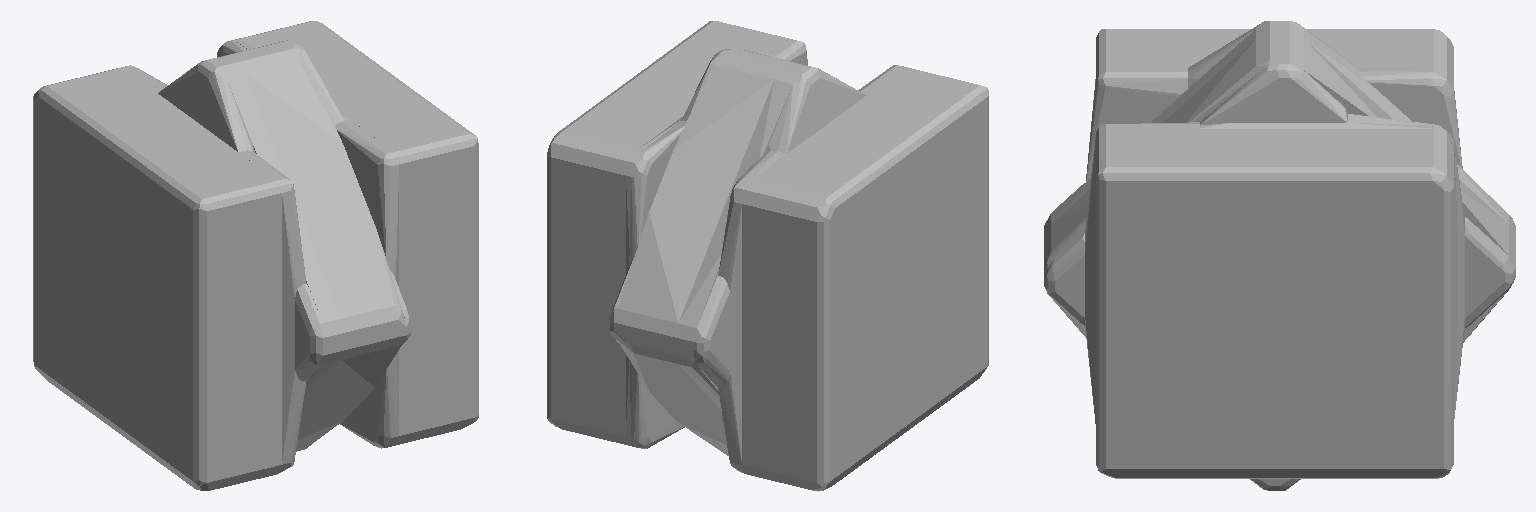
robot.urdf — root:
<robot name="root">
  <link name="link_coacd_convex_piece_0">
    <inertial>
      <origin xyz="0 0 0" rpy="0 0 0"/>
      <mass value="3.77E-01"/>
      <inertia ixx="8.35E-02" ixy="2.64E-03" ixz="-3.97E-04" iyy="1.05E-01" iyz="6.61E-05" izz="1.08E-01"/>
    </inertial>
    <visual>
      <origin xyz="0 0 0" rpy="0 0 0"/>
      <geometry>
        <mesh filename="coacd_convex_piece_0.obj" scale="1.0000E+00 1.0000E+00 1.0000E+00"/>
      </geometry>
      <material name="">
        <color rgba="7.50E-01 7.50E-01 7.50E-01 1"/>
      </material>
    </visual>
    <collision>
      <origin xyz="0 0 0" rpy="0 0 0"/>
      <geometry>
        <mesh filename="coacd_convex_piece_0.obj" scale="1.0000E+00 1.0000E+00 1.0000E+00"/>
      </geometry>
    </collision>
  </link>
  <link name="link_coacd_convex_piece_1">
    <inertial>
      <origin xyz="0 0 0" rpy="0 0 0"/>
      <mass value="3.78E-01"/>
      <inertia ixx="8.36E-02" ixy="-2.61E-03" ixz="3.74E-04" iyy="1.05E-01" iyz="6.37E-05" izz="1.08E-01"/>
    </inertial>
    <visual>
      <origin xyz="0 0 0" rpy="0 0 0"/>
      <geometry>
        <mesh filename="coacd_convex_piece_1.obj" scale="1.0000E+00 1.0000E+00 1.0000E+00"/>
      </geometry>
      <material name="">
        <color rgba="7.50E-01 7.50E-01 7.50E-01 1"/>
      </material>
    </visual>
    <collision>
      <origin xyz="0 0 0" rpy="0 0 0"/>
      <geometry>
        <mesh filename="coacd_convex_piece_1.obj" scale="1.0000E+00 1.0000E+00 1.0000E+00"/>
      </geometry>
    </collision>
  </link>
  <joint name="link_coacd_convex_piece_1_joint" type="fixed">
    <origin xyz="0 0 0" rpy="0 0 0"/>
    <parent link="link_coacd_convex_piece_0"/>
    <child link="link_coacd_convex_piece_1"/>
  </joint>
  <link name="link_coacd_convex_piece_2">
    <inertial>
      <origin xyz="0 0 0" rpy="0 0 0"/>
      <mass value="2.91E-01"/>
      <inertia ixx="6.71E-02" ixy="2.10E-06" ixz="-4.02E-05" iyy="3.55E-02" iyz="-4.53E-04" izz="3.56E-02"/>
    </inertial>
    <visual>
      <origin xyz="0 0 0" rpy="0 0 0"/>
      <geometry>
        <mesh filename="coacd_convex_piece_2.obj" scale="1.0000E+00 1.0000E+00 1.0000E+00"/>
      </geometry>
      <material name="">
        <color rgba="7.50E-01 7.50E-01 7.50E-01 1"/>
      </material>
    </visual>
    <collision>
      <origin xyz="0 0 0" rpy="0 0 0"/>
      <geometry>
        <mesh filename="coacd_convex_piece_2.obj" scale="1.0000E+00 1.0000E+00 1.0000E+00"/>
      </geometry>
    </collision>
  </link>
  <joint name="link_coacd_convex_piece_2_joint" type="fixed">
    <origin xyz="0 0 0" rpy="0 0 0"/>
    <parent link="link_coacd_convex_piece_1"/>
    <child link="link_coacd_convex_piece_2"/>
  </joint>
  <link name="link_coacd_convex_piece_3">
    <inertial>
      <origin xyz="0 0 0" rpy="0 0 0"/>
      <mass value="8.64E-02"/>
      <inertia ixx="1.95E-02" ixy="8.05E-06" ixz="6.04E-06" iyy="1.10E-02" iyz="-6.00E-05" izz="1.10E-02"/>
    </inertial>
    <visual>
      <origin xyz="0 0 0" rpy="0 0 0"/>
      <geometry>
        <mesh filename="coacd_convex_piece_3.obj" scale="1.0000E+00 1.0000E+00 1.0000E+00"/>
      </geometry>
      <material name="">
        <color rgba="7.50E-01 7.50E-01 7.50E-01 1"/>
      </material>
    </visual>
    <collision>
      <origin xyz="0 0 0" rpy="0 0 0"/>
      <geometry>
        <mesh filename="coacd_convex_piece_3.obj" scale="1.0000E+00 1.0000E+00 1.0000E+00"/>
      </geometry>
    </collision>
  </link>
  <joint name="link_coacd_convex_piece_3_joint" type="fixed">
    <origin xyz="0 0 0" rpy="0 0 0"/>
    <parent link="link_coacd_convex_piece_2"/>
    <child link="link_coacd_convex_piece_3"/>
  </joint>
  <link name="link_coacd_convex_piece_4">
    <inertial>
      <origin xyz="0 0 0" rpy="0 0 0"/>
      <mass value="1.08E-03"/>
      <inertia ixx="4.90E-04" ixy="-1.31E-04" ixz="-3.36E-06" iyy="4.33E-05" iyz="-1.23E-05" izz="5.19E-04"/>
    </inertial>
    <visual>
      <origin xyz="0 0 0" rpy="0 0 0"/>
      <geometry>
        <mesh filename="coacd_convex_piece_4.obj" scale="1.0000E+00 1.0000E+00 1.0000E+00"/>
      </geometry>
      <material name="">
        <color rgba="7.50E-01 7.50E-01 7.50E-01 1"/>
      </material>
    </visual>
    <collision>
      <origin xyz="0 0 0" rpy="0 0 0"/>
      <geometry>
        <mesh filename="coacd_convex_piece_4.obj" scale="1.0000E+00 1.0000E+00 1.0000E+00"/>
      </geometry>
    </collision>
  </link>
  <joint name="link_coacd_convex_piece_4_joint" type="fixed">
    <origin xyz="0 0 0" rpy="0 0 0"/>
    <parent link="link_coacd_convex_piece_3"/>
    <child link="link_coacd_convex_piece_4"/>
  </joint>
  <link name="link_coacd_convex_piece_5">
    <inertial>
      <origin xyz="0 0 0" rpy="0 0 0"/>
      <mass value="2.39E-02"/>
      <inertia ixx="7.35E-03" ixy="2.11E-03" ixz="-9.55E-06" iyy="3.43E-03" iyz="2.41E-05" izz="5.86E-03"/>
    </inertial>
    <visual>
      <origin xyz="0 0 0" rpy="0 0 0"/>
      <geometry>
        <mesh filename="coacd_convex_piece_5.obj" scale="1.0000E+00 1.0000E+00 1.0000E+00"/>
      </geometry>
      <material name="">
        <color rgba="7.50E-01 7.50E-01 7.50E-01 1"/>
      </material>
    </visual>
    <collision>
      <origin xyz="0 0 0" rpy="0 0 0"/>
      <geometry>
        <mesh filename="coacd_convex_piece_5.obj" scale="1.0000E+00 1.0000E+00 1.0000E+00"/>
      </geometry>
    </collision>
  </link>
  <joint name="link_coacd_convex_piece_5_joint" type="fixed">
    <origin xyz="0 0 0" rpy="0 0 0"/>
    <parent link="link_coacd_convex_piece_4"/>
    <child link="link_coacd_convex_piece_5"/>
  </joint>
  <link name="link_coacd_convex_piece_6">
    <inertial>
      <origin xyz="0 0 0" rpy="0 0 0"/>
      <mass value="7.59E-04"/>
      <inertia ixx="3.64E-04" ixy="9.49E-05" ixz="1.33E-06" iyy="2.88E-05" iyz="-5.20E-06" izz="3.85E-04"/>
    </inertial>
    <visual>
      <origin xyz="0 0 0" rpy="0 0 0"/>
      <geometry>
        <mesh filename="coacd_convex_piece_6.obj" scale="1.0000E+00 1.0000E+00 1.0000E+00"/>
      </geometry>
      <material name="">
        <color rgba="7.50E-01 7.50E-01 7.50E-01 1"/>
      </material>
    </visual>
    <collision>
      <origin xyz="0 0 0" rpy="0 0 0"/>
      <geometry>
        <mesh filename="coacd_convex_piece_6.obj" scale="1.0000E+00 1.0000E+00 1.0000E+00"/>
      </geometry>
    </collision>
  </link>
  <joint name="link_coacd_convex_piece_6_joint" type="fixed">
    <origin xyz="0 0 0" rpy="0 0 0"/>
    <parent link="link_coacd_convex_piece_5"/>
    <child link="link_coacd_convex_piece_6"/>
  </joint>
  <link name="link_coacd_convex_piece_7">
    <inertial>
      <origin xyz="0 0 0" rpy="0 0 0"/>
      <mass value="5.01E-02"/>
      <inertia ixx="8.74E-03" ixy="-1.91E-04" ixz="2.24E-05" iyy="9.42E-03" iyz="-1.01E-05" izz="3.16E-03"/>
    </inertial>
    <visual>
      <origin xyz="0 0 0" rpy="0 0 0"/>
      <geometry>
        <mesh filename="coacd_convex_piece_7.obj" scale="1.0000E+00 1.0000E+00 1.0000E+00"/>
      </geometry>
      <material name="">
        <color rgba="7.50E-01 7.50E-01 7.50E-01 1"/>
      </material>
    </visual>
    <collision>
      <origin xyz="0 0 0" rpy="0 0 0"/>
      <geometry>
        <mesh filename="coacd_convex_piece_7.obj" scale="1.0000E+00 1.0000E+00 1.0000E+00"/>
      </geometry>
    </collision>
  </link>
  <joint name="link_coacd_convex_piece_7_joint" type="fixed">
    <origin xyz="0 0 0" rpy="0 0 0"/>
    <parent link="link_coacd_convex_piece_6"/>
    <child link="link_coacd_convex_piece_7"/>
  </joint>
  <link name="link_coacd_convex_piece_8">
    <inertial>
      <origin xyz="0 0 0" rpy="0 0 0"/>
      <mass value="2.34E-02"/>
      <inertia ixx="7.44E-03" ixy="-2.11E-03" ixz="3.24E-05" iyy="3.20E-03" iyz="8.08E-05" izz="6.07E-03"/>
    </inertial>
    <visual>
      <origin xyz="0 0 0" rpy="0 0 0"/>
      <geometry>
        <mesh filename="coacd_convex_piece_8.obj" scale="1.0000E+00 1.0000E+00 1.0000E+00"/>
      </geometry>
      <material name="">
        <color rgba="7.50E-01 7.50E-01 7.50E-01 1"/>
      </material>
    </visual>
    <collision>
      <origin xyz="0 0 0" rpy="0 0 0"/>
      <geometry>
        <mesh filename="coacd_convex_piece_8.obj" scale="1.0000E+00 1.0000E+00 1.0000E+00"/>
      </geometry>
    </collision>
  </link>
  <joint name="link_coacd_convex_piece_8_joint" type="fixed">
    <origin xyz="0 0 0" rpy="0 0 0"/>
    <parent link="link_coacd_convex_piece_7"/>
    <child link="link_coacd_convex_piece_8"/>
  </joint>
  <link name="link_coacd_convex_piece_9">
    <inertial>
      <origin xyz="0 0 0" rpy="0 0 0"/>
      <mass value="1.15E-03"/>
      <inertia ixx="5.53E-04" ixy="-1.40E-04" ixz="-3.16E-08" iyy="4.27E-05" iyz="-1.54E-07" izz="5.82E-04"/>
    </inertial>
    <visual>
      <origin xyz="0 0 0" rpy="0 0 0"/>
      <geometry>
        <mesh filename="coacd_convex_piece_9.obj" scale="1.0000E+00 1.0000E+00 1.0000E+00"/>
      </geometry>
      <material name="">
        <color rgba="7.50E-01 7.50E-01 7.50E-01 1"/>
      </material>
    </visual>
    <collision>
      <origin xyz="0 0 0" rpy="0 0 0"/>
      <geometry>
        <mesh filename="coacd_convex_piece_9.obj" scale="1.0000E+00 1.0000E+00 1.0000E+00"/>
      </geometry>
    </collision>
  </link>
  <joint name="link_coacd_convex_piece_9_joint" type="fixed">
    <origin xyz="0 0 0" rpy="0 0 0"/>
    <parent link="link_coacd_convex_piece_8"/>
    <child link="link_coacd_convex_piece_9"/>
  </joint>
  <link name="link_coacd_convex_piece_10">
    <inertial>
      <origin xyz="0 0 0" rpy="0 0 0"/>
      <mass value="1.84E-02"/>
      <inertia ixx="3.52E-03" ixy="-6.35E-04" ixz="-7.84E-07" iyy="2.94E-03" iyz="-3.17E-06" izz="2.43E-03"/>
    </inertial>
    <visual>
      <origin xyz="0 0 0" rpy="0 0 0"/>
      <geometry>
        <mesh filename="coacd_convex_piece_10.obj" scale="1.0000E+00 1.0000E+00 1.0000E+00"/>
      </geometry>
      <material name="">
        <color rgba="7.50E-01 7.50E-01 7.50E-01 1"/>
      </material>
    </visual>
    <collision>
      <origin xyz="0 0 0" rpy="0 0 0"/>
      <geometry>
        <mesh filename="coacd_convex_piece_10.obj" scale="1.0000E+00 1.0000E+00 1.0000E+00"/>
      </geometry>
    </collision>
  </link>
  <joint name="link_coacd_convex_piece_10_joint" type="fixed">
    <origin xyz="0 0 0" rpy="0 0 0"/>
    <parent link="link_coacd_convex_piece_9"/>
    <child link="link_coacd_convex_piece_10"/>
  </joint>
  <link name="link_coacd_convex_piece_11">
    <inertial>
      <origin xyz="0 0 0" rpy="0 0 0"/>
      <mass value="1.58E-03"/>
      <inertia ixx="7.11E-04" ixy="1.86E-04" ixz="2.42E-06" iyy="6.15E-05" iyz="-9.38E-06" izz="7.49E-04"/>
    </inertial>
    <visual>
      <origin xyz="0 0 0" rpy="0 0 0"/>
      <geometry>
        <mesh filename="coacd_convex_piece_11.obj" scale="1.0000E+00 1.0000E+00 1.0000E+00"/>
      </geometry>
      <material name="">
        <color rgba="7.50E-01 7.50E-01 7.50E-01 1"/>
      </material>
    </visual>
    <collision>
      <origin xyz="0 0 0" rpy="0 0 0"/>
      <geometry>
        <mesh filename="coacd_convex_piece_11.obj" scale="1.0000E+00 1.0000E+00 1.0000E+00"/>
      </geometry>
    </collision>
  </link>
  <joint name="link_coacd_convex_piece_11_joint" type="fixed">
    <origin xyz="0 0 0" rpy="0 0 0"/>
    <parent link="link_coacd_convex_piece_10"/>
    <child link="link_coacd_convex_piece_11"/>
  </joint>
  <link name="link_coacd_convex_piece_12">
    <inertial>
      <origin xyz="0 0 0" rpy="0 0 0"/>
      <mass value="2.40E-02"/>
      <inertia ixx="6.83E-03" ixy="1.98E-03" ixz="3.29E-05" iyy="3.29E-03" iyz="-7.30E-05" izz="5.41E-03"/>
    </inertial>
    <visual>
      <origin xyz="0 0 0" rpy="0 0 0"/>
      <geometry>
        <mesh filename="coacd_convex_piece_12.obj" scale="1.0000E+00 1.0000E+00 1.0000E+00"/>
      </geometry>
      <material name="">
        <color rgba="7.50E-01 7.50E-01 7.50E-01 1"/>
      </material>
    </visual>
    <collision>
      <origin xyz="0 0 0" rpy="0 0 0"/>
      <geometry>
        <mesh filename="coacd_convex_piece_12.obj" scale="1.0000E+00 1.0000E+00 1.0000E+00"/>
      </geometry>
    </collision>
  </link>
  <joint name="link_coacd_convex_piece_12_joint" type="fixed">
    <origin xyz="0 0 0" rpy="0 0 0"/>
    <parent link="link_coacd_convex_piece_11"/>
    <child link="link_coacd_convex_piece_12"/>
  </joint>
  <link name="link_coacd_convex_piece_13">
    <inertial>
      <origin xyz="0 0 0" rpy="0 0 0"/>
      <mass value="1.67E-02"/>
      <inertia ixx="4.65E-03" ixy="-1.28E-03" ixz="-9.15E-06" iyy="2.33E-03" iyz="-1.94E-05" izz="3.52E-03"/>
    </inertial>
    <visual>
      <origin xyz="0 0 0" rpy="0 0 0"/>
      <geometry>
        <mesh filename="coacd_convex_piece_13.obj" scale="1.0000E+00 1.0000E+00 1.0000E+00"/>
      </geometry>
      <material name="">
        <color rgba="7.50E-01 7.50E-01 7.50E-01 1"/>
      </material>
    </visual>
    <collision>
      <origin xyz="0 0 0" rpy="0 0 0"/>
      <geometry>
        <mesh filename="coacd_convex_piece_13.obj" scale="1.0000E+00 1.0000E+00 1.0000E+00"/>
      </geometry>
    </collision>
  </link>
  <joint name="link_coacd_convex_piece_13_joint" type="fixed">
    <origin xyz="0 0 0" rpy="0 0 0"/>
    <parent link="link_coacd_convex_piece_12"/>
    <child link="link_coacd_convex_piece_13"/>
  </joint>
  <link name="link_coacd_convex_piece_14">
    <inertial>
      <origin xyz="0 0 0" rpy="0 0 0"/>
      <mass value="2.64E-02"/>
      <inertia ixx="4.59E-03" ixy="9.41E-05" ixz="-9.95E-06" iyy="5.04E-03" iyz="-2.28E-05" izz="1.44E-03"/>
    </inertial>
    <visual>
      <origin xyz="0 0 0" rpy="0 0 0"/>
      <geometry>
        <mesh filename="coacd_convex_piece_14.obj" scale="1.0000E+00 1.0000E+00 1.0000E+00"/>
      </geometry>
      <material name="">
        <color rgba="7.50E-01 7.50E-01 7.50E-01 1"/>
      </material>
    </visual>
    <collision>
      <origin xyz="0 0 0" rpy="0 0 0"/>
      <geometry>
        <mesh filename="coacd_convex_piece_14.obj" scale="1.0000E+00 1.0000E+00 1.0000E+00"/>
      </geometry>
    </collision>
  </link>
  <joint name="link_coacd_convex_piece_14_joint" type="fixed">
    <origin xyz="0 0 0" rpy="0 0 0"/>
    <parent link="link_coacd_convex_piece_13"/>
    <child link="link_coacd_convex_piece_14"/>
  </joint>
</robot>

--- Facts derived from the render (not from the file) ---
Views: 3 orthographic renders of the robot side by side, from view 1: azimuth 30°, elevation 25°; view 2: azimuth 150°, elevation 25°; view 3: azimuth 270°, elevation 25°.
Model root with 15 links and 14 joints (14 fixed), rooted at link_coacd_convex_piece_0, posed every joint at zero.
Links seen in each view (by area): view 1: link_coacd_convex_piece_1, link_coacd_convex_piece_0, link_coacd_convex_piece_2, link_coacd_convex_piece_5, link_coacd_convex_piece_8, link_coacd_convex_piece_3, link_coacd_convex_piece_7, link_coacd_convex_piece_9, link_coacd_convex_piece_14; view 2: link_coacd_convex_piece_1, link_coacd_convex_piece_0, link_coacd_convex_piece_2, link_coacd_convex_piece_3, link_coacd_convex_piece_13, link_coacd_convex_piece_12, link_coacd_convex_piece_7, link_coacd_convex_piece_11, link_coacd_convex_piece_10, link_coacd_convex_piece_5; view 3: link_coacd_convex_piece_0, link_coacd_convex_piece_2, link_coacd_convex_piece_1, link_coacd_convex_piece_14, link_coacd_convex_piece_8, link_coacd_convex_piece_12, link_coacd_convex_piece_3, link_coacd_convex_piece_4, link_coacd_convex_piece_5, link_coacd_convex_piece_6, link_coacd_convex_piece_13, link_coacd_convex_piece_10 (+1 smaller).
Link boxes in pixels (x1,y1,x2,y2): link_coacd_convex_piece_1: (33,68,281,490); link_coacd_convex_piece_0: (235,21,478,444); link_coacd_convex_piece_2: (225,40,405,451); link_coacd_convex_piece_5: (335,120,398,448); link_coacd_convex_piece_8: (239,150,306,473); link_coacd_convex_piece_3: (209,55,344,399); link_coacd_convex_piece_7: (158,60,254,151); link_coacd_convex_piece_9: (295,284,325,380); link_coacd_convex_piece_14: (287,40,343,448); link_coacd_convex_piece_1: (742,67,988,491); link_coacd_convex_piece_0: (547,21,788,445); link_coacd_convex_piece_2: (614,49,794,455); link_coacd_convex_piece_3: (675,62,810,410); link_coacd_convex_piece_13: (629,121,686,448); link_coacd_convex_piece_12: (718,151,785,473); link_coacd_convex_piece_7: (767,66,866,153); link_coacd_convex_piece_11: (694,276,729,387); link_coacd_convex_piece_10: (626,117,682,446); link_coacd_convex_piece_5: (766,39,807,65); link_coacd_convex_piece_0: (1096,129,1453,478); link_coacd_convex_piece_2: (1044,32,1515,342); link_coacd_convex_piece_1: (1096,29,1453,84); link_coacd_convex_piece_14: (1200,64,1347,490); link_coacd_convex_piece_8: (1086,68,1187,181); link_coacd_convex_piece_12: (1359,68,1462,168); link_coacd_convex_piece_3: (1044,23,1515,235); link_coacd_convex_piece_4: (1465,217,1515,327); link_coacd_convex_piece_5: (1085,122,1199,423); link_coacd_convex_piece_6: (1044,231,1084,327); link_coacd_convex_piece_13: (1348,114,1464,418); link_coacd_convex_piece_10: (1200,123,1456,412).
Bounding box of the posed robot: 1.14 × 1.55 × 1.55 m (x, y, z).
Meshes: 15 distinct files referenced, 15 mesh visuals loaded (15 OBJ).